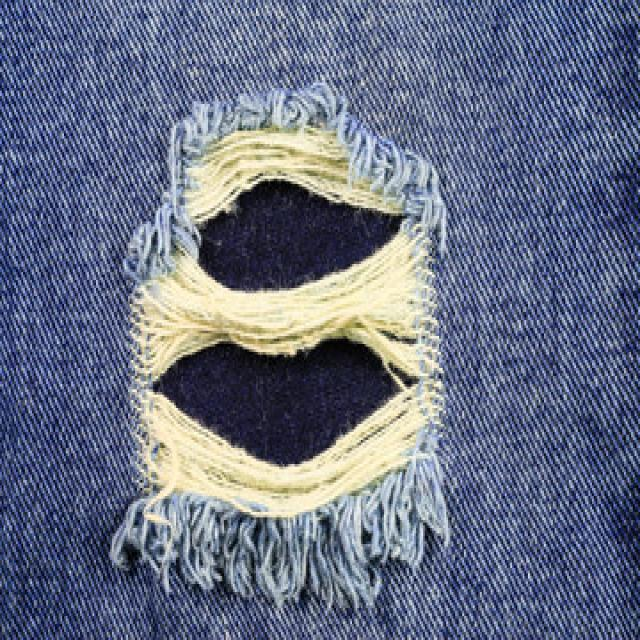Hole: (111, 84, 449, 608)
